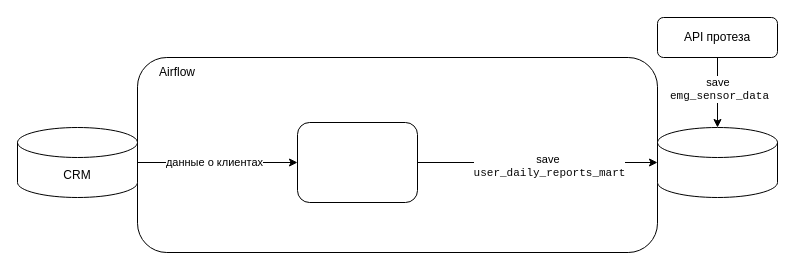
Some shapes in this 795 by 270 pixel diagram are drawn without their labels. The centre of each missing label's shape, as x and y in pixels:
Click house: point 717,162
Преобразование данных в готовый отчет: point 357,162
